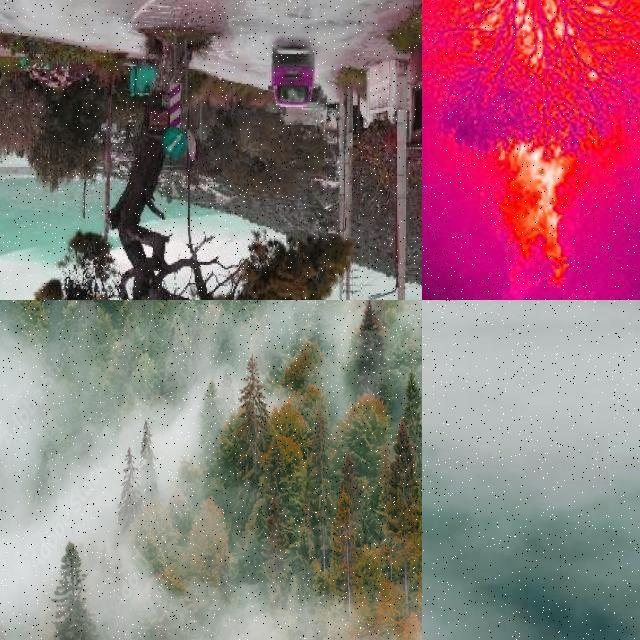tree: (39, 24, 324, 300), (422, 0, 640, 166), (218, 346, 318, 610), (334, 382, 392, 594), (382, 382, 422, 612), (44, 532, 104, 640), (187, 496, 237, 600), (422, 300, 522, 348), (347, 300, 391, 396), (127, 349, 165, 415), (136, 418, 160, 506), (118, 448, 146, 520), (200, 382, 224, 454), (89, 301, 128, 344), (154, 300, 188, 346), (262, 300, 300, 336), (228, 300, 258, 332)
